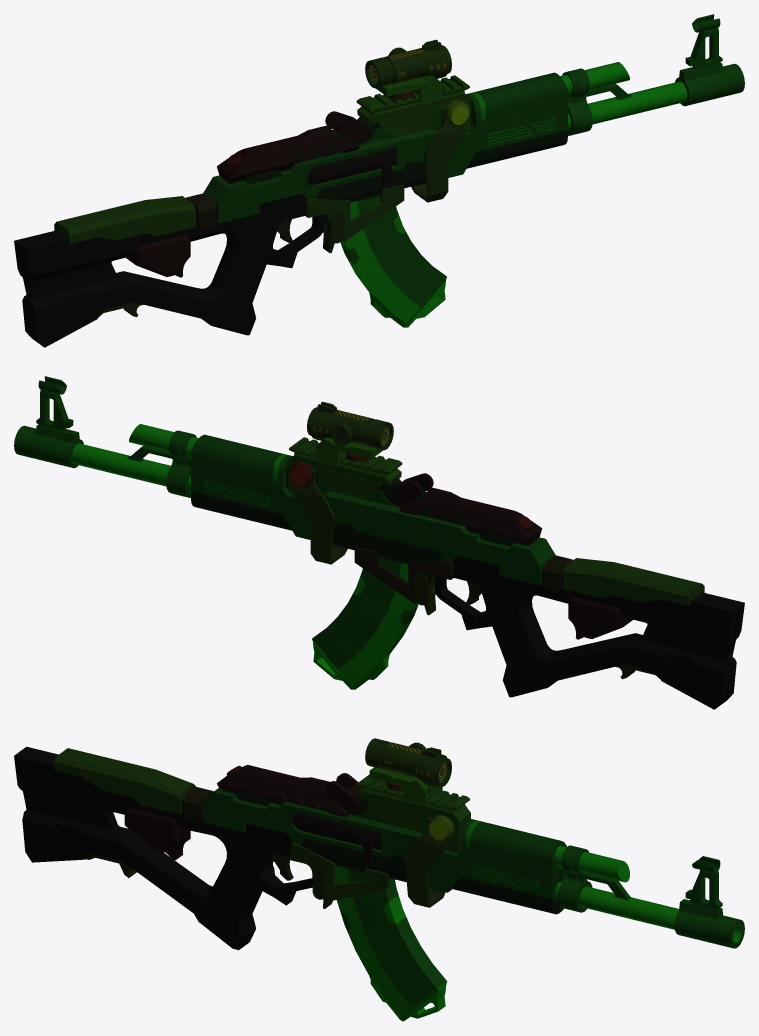
The picture shows the model from 3 angles, top to bottom: view 1: azimuth 30°, elevation 25°; view 2: azimuth 150°, elevation 25°; view 3: azimuth 330°, elevation 25°; orthographic projection.
Visible parts, largest first — view 1: Cube.007_Material_0; view 2: Cube.007_Material_0; view 3: Cube.007_Material_0.
Boxes of the visible parts, x1,y1,x2,y2 form: Cube.007_Material_0: (14,14,744,347); Cube.007_Material_0: (14,376,744,709); Cube.007_Material_0: (14,738,744,1021).
Size of the model in its own units: 4 by 1.47 by 0.2152.
Materials: 2 (2 with a texture image).
